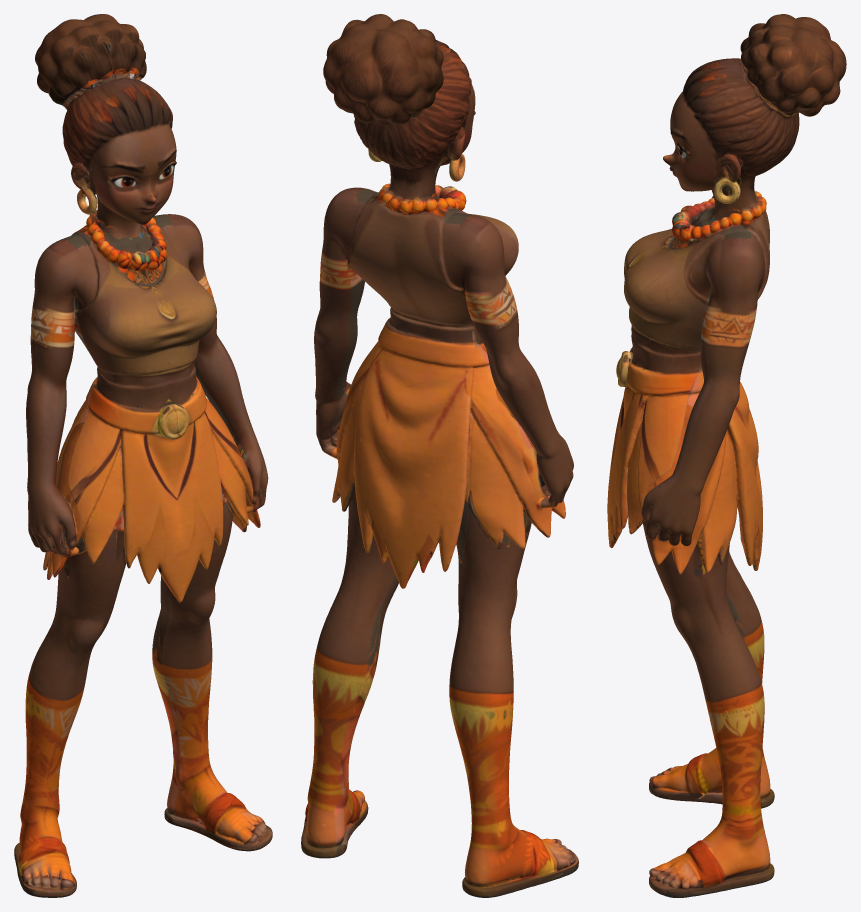
File: Warrior_Spirit_1010161509_texture.glb
3 renders of one model, left to right at view 1: azimuth 30°, elevation 25°; view 2: azimuth 150°, elevation 25°; view 3: azimuth 270°, elevation 25°, orthographic. The views are drawn at different scales.
Size of the model in its own units: 0.6063 by 1.9 by 0.5053.
Materials: 1 (1 with a texture image).
